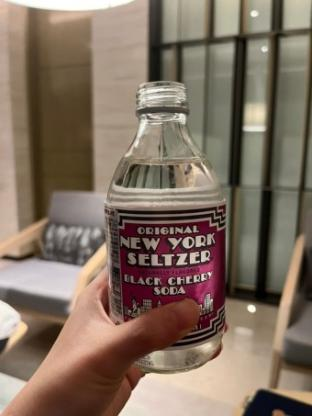Glass Bottle: (104, 79, 226, 373)
